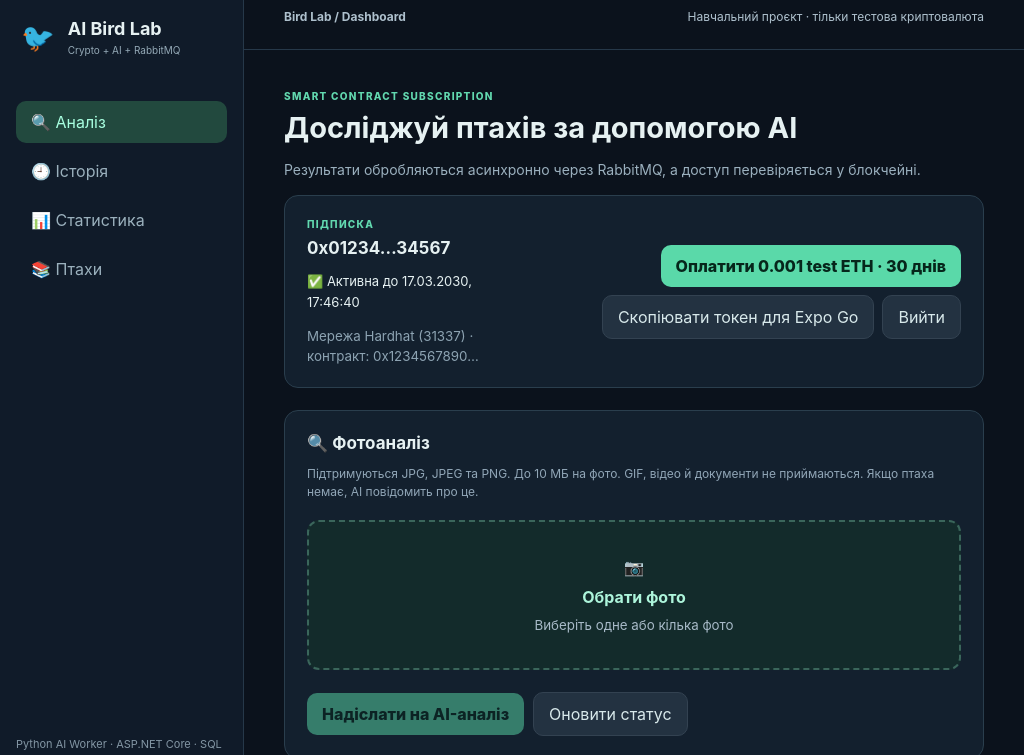
Scenario: processes wallet subscription success, refresh and token clipboard
Later steps or results of the test are not shown.
Click the button "Оплатити 0.001 test ETH · 30 днів" at (811, 266), box x1=661 y1=244 x2=961 y2=286
(page scrolled)
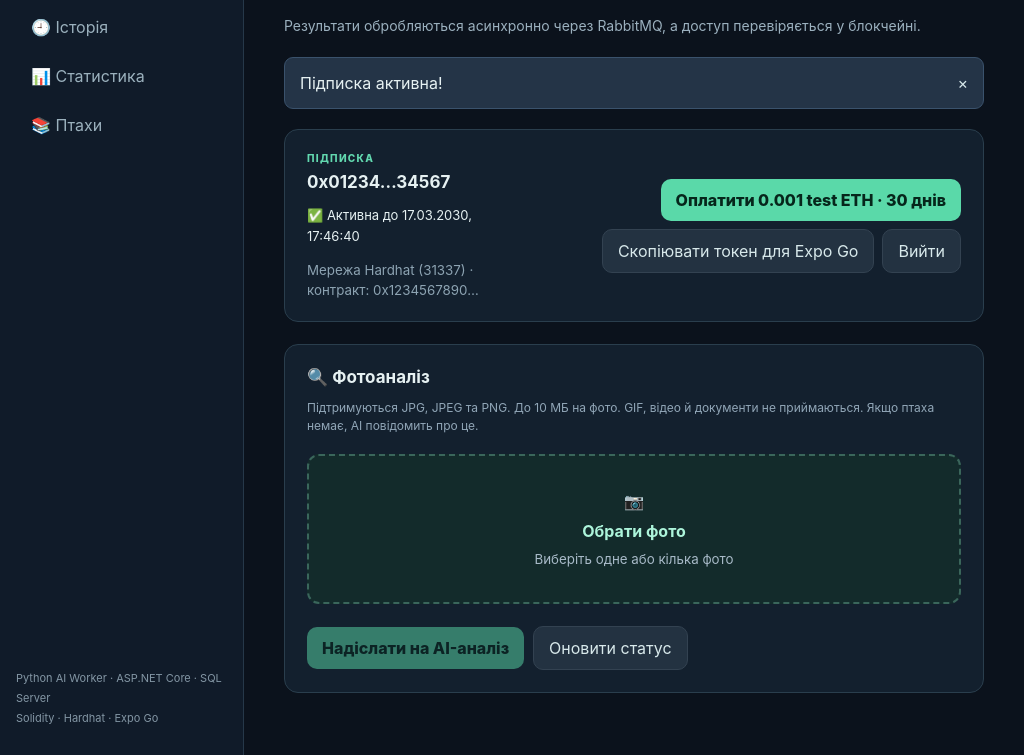
Expected: the text "Підписка активна!" is shown, x1=300 y1=73 x2=443 y2=93
